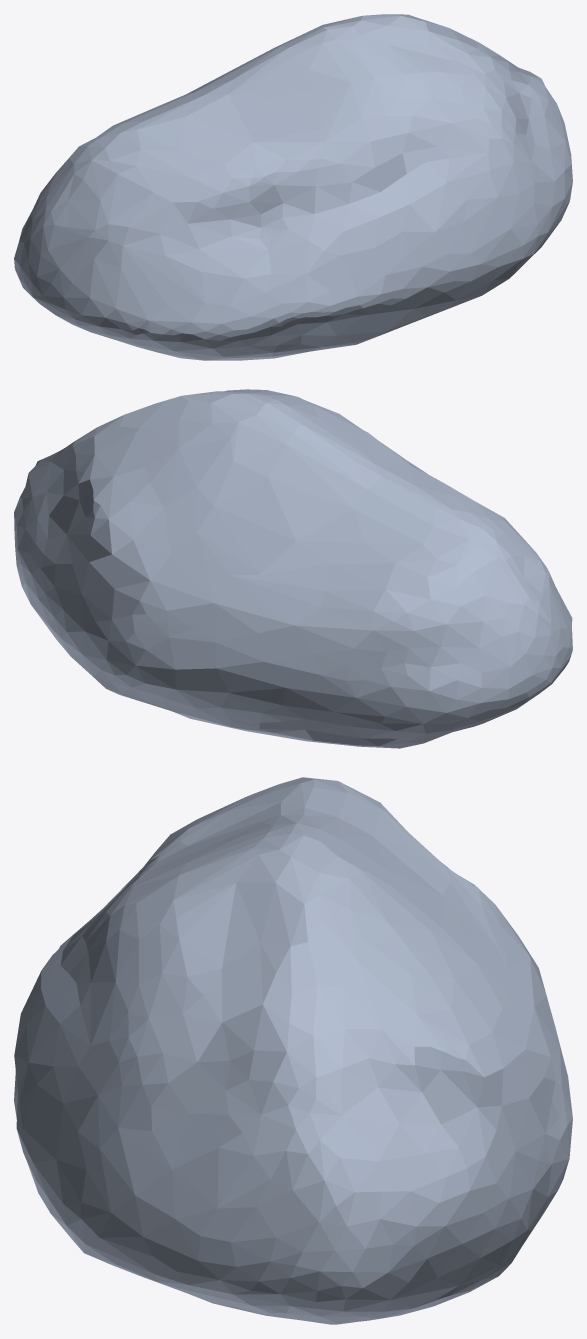
File: kamen1.FBX
The picture shows the model from 3 angles, top to bottom: view 1: azimuth 30°, elevation 25°; view 2: azimuth 150°, elevation 25°; view 3: azimuth 270°, elevation 25°; orthographic projection. The views are drawn at different scales.
Parts seen in each view (by area): view 1: Rock.Landscape.Style_1; view 2: Rock.Landscape.Style_1; view 3: Rock.Landscape.Style_1.
Boxes of the visible parts, x1,y1,x2,y2 form: Rock.Landscape.Style_1: [14, 14, 572, 360]; Rock.Landscape.Style_1: [14, 389, 572, 748]; Rock.Landscape.Style_1: [14, 777, 572, 1324].
Size of the model in its own units: 3.94 by 2.08 by 2.44.
